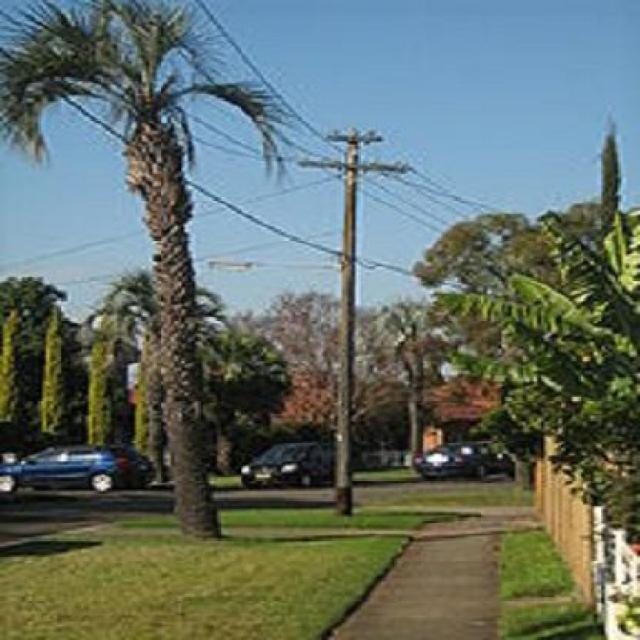pole: (295, 120, 414, 520)
